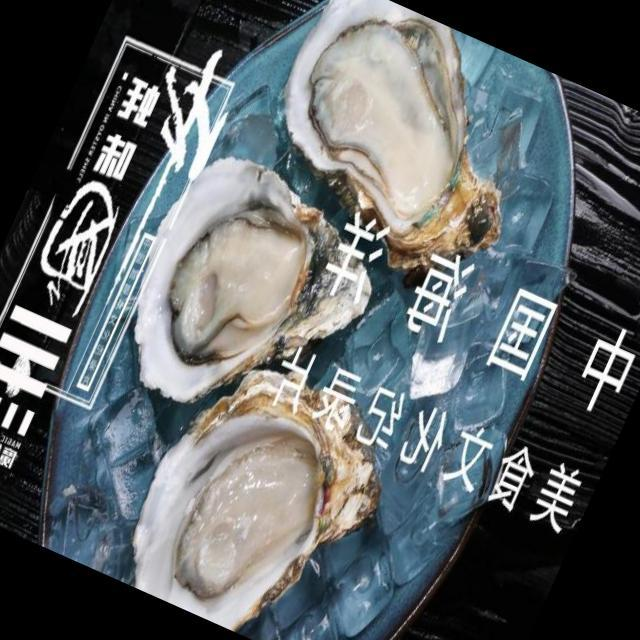Oyster-Open: (91, 305, 442, 640), (51, 104, 401, 430)
